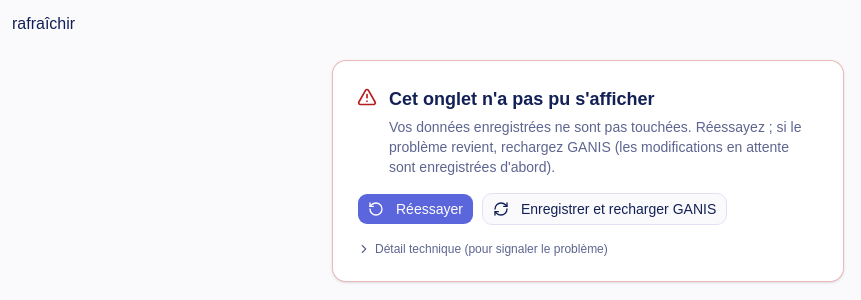
Scenario: ErrorBoundary › affiche un écran de secours puis réessaie
Expected: the message is shown, [332,60,844,282]
Click the button "Réessayer" at (415, 209), box [357,193,474,225]
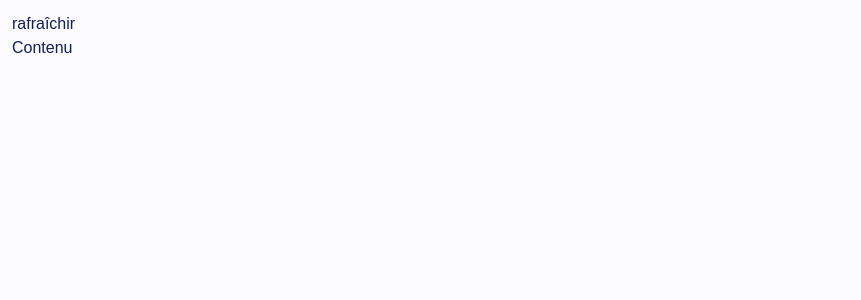
Expected: the text "Contenu" is shown, [12,39,72,56]
